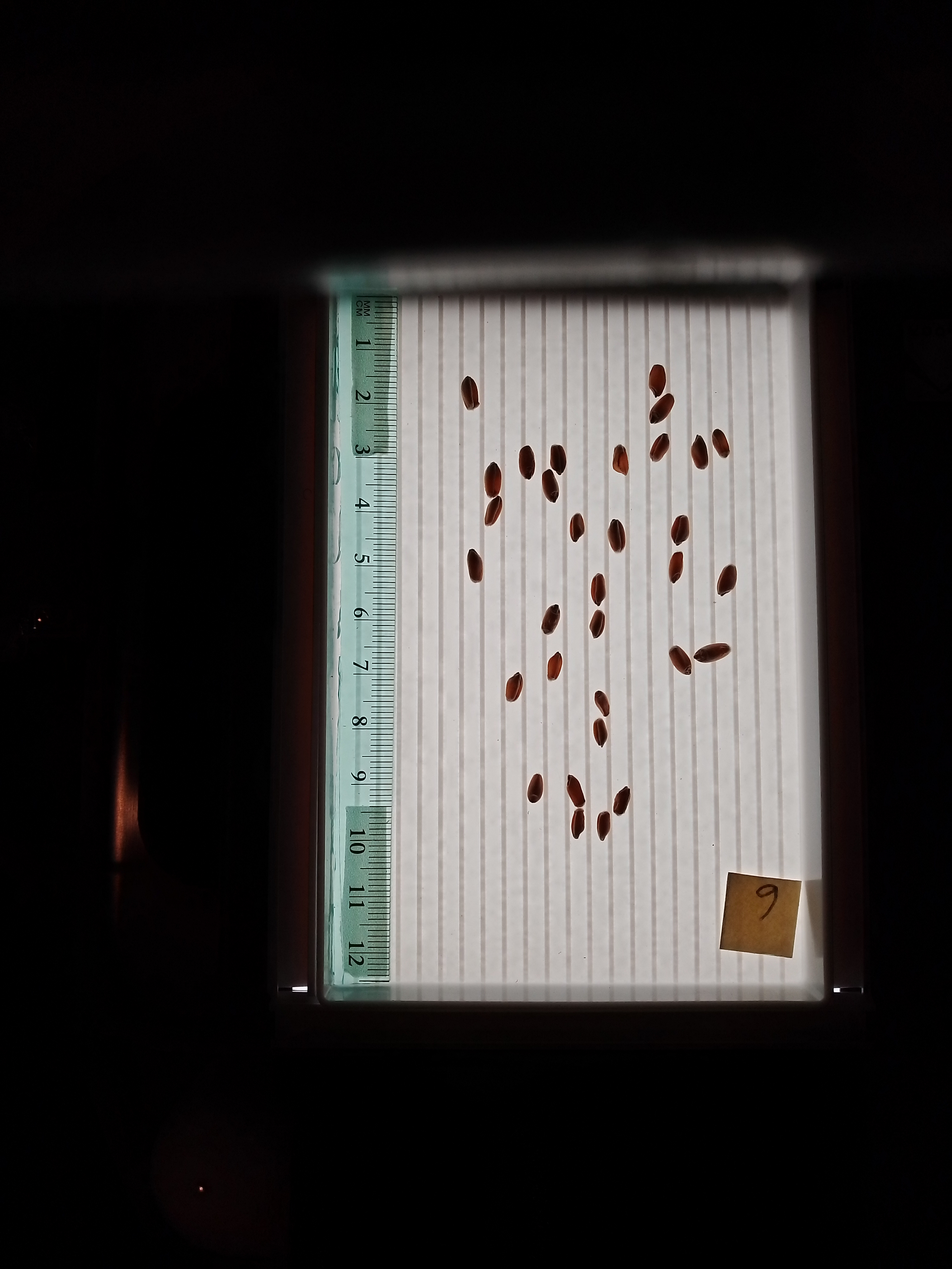seed mask: (650, 394, 674, 424), (695, 643, 729, 664), (484, 463, 502, 497), (717, 565, 737, 595), (566, 775, 584, 808), (670, 646, 691, 674), (608, 519, 625, 553), (691, 437, 708, 470), (542, 470, 559, 502), (519, 446, 535, 479), (467, 550, 483, 583), (462, 378, 479, 409), (649, 365, 666, 396), (542, 605, 560, 634), (612, 445, 629, 475), (712, 429, 730, 457), (671, 516, 689, 544), (485, 497, 502, 526), (651, 435, 669, 462), (506, 674, 523, 702), (613, 788, 630, 815), (550, 445, 565, 475), (569, 514, 585, 542), (527, 775, 543, 803), (591, 575, 606, 604), (669, 552, 683, 583), (571, 809, 585, 838), (590, 612, 605, 637), (548, 654, 562, 680), (594, 720, 608, 746), (597, 812, 610, 839), (595, 692, 609, 715)
